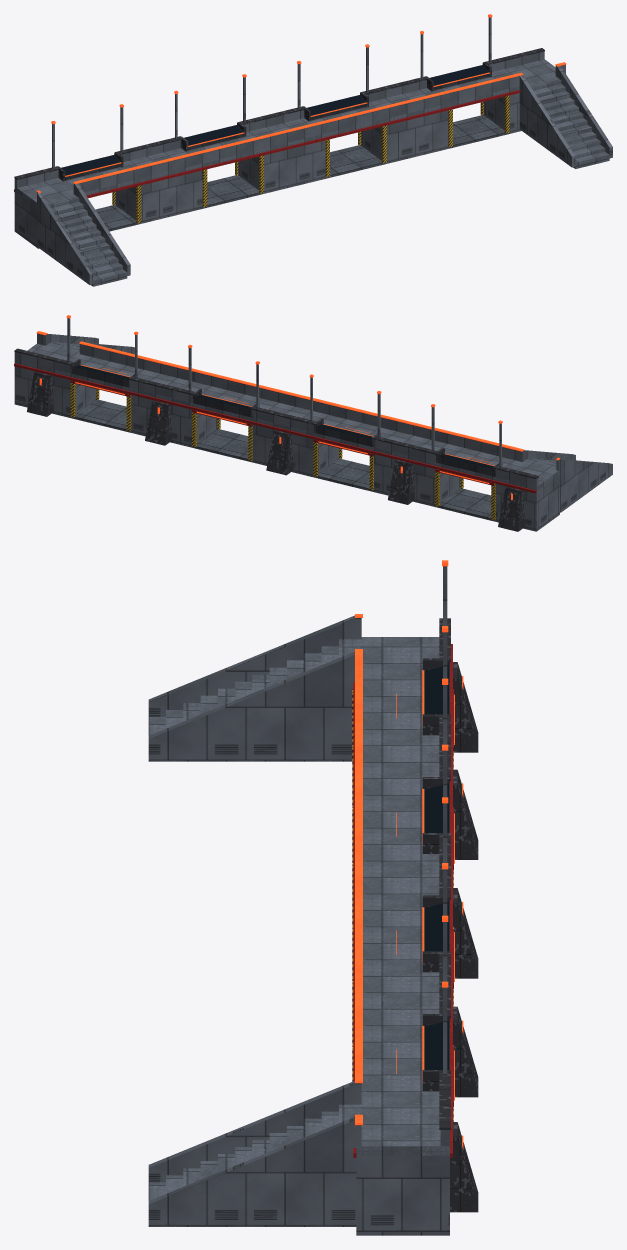
File: env_rampart_e.glb
3 renders of one model, top to bottom at view 1: azimuth 30°, elevation 25°; view 2: azimuth 150°, elevation 25°; view 3: azimuth 270°, elevation 25°, orthographic. The views are drawn at different scales.
Parts seen in each view (by area): view 1: env_rampart_e; view 2: env_rampart_e; view 3: env_rampart_e.
Boxes of the visible parts, x1,y1,x2,y2 form: env_rampart_e: (14,14,612,286); env_rampart_e: (14,315,612,531); env_rampart_e: (148,560,478,1235).
Size of the model in its own units: 46.5 by 8.55 by 12.7.
9 materials, 9 textured.
